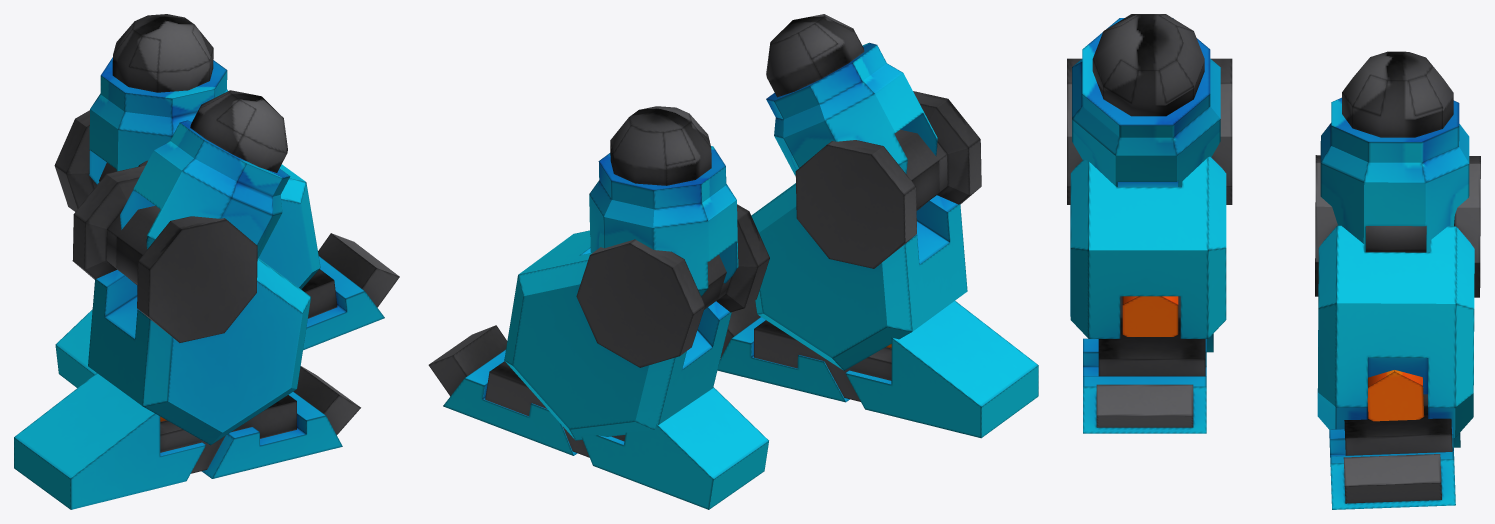
The model's file is Bottom_Idle6.obj.
The picture shows the model from 3 angles, left to right: view 1: azimuth 30°, elevation 25°; view 2: azimuth 150°, elevation 25°; view 3: azimuth 270°, elevation 25°; orthographic projection. The views are drawn at different scales.
Parts seen in each view (by area): view 1: Object013, Object014, Object012, Object009, Object011, Object010; view 2: Object013, Object010, Object014, Object011, Object009, Object012; view 3: Object010, Object013, Object009, Object012, Object014, Object011.
Part boxes in pixels (x1=…): Object013: x1=72, y1=165, x2=310, y2=445; Object014: x1=14, y1=366, x2=360, y2=509; Object012: x1=120, y1=90, x2=290, y2=258; Object009: x1=89, y1=14, x2=227, y2=184; Object011: x1=55, y1=233, x2=399, y2=387; Object010: x1=54, y1=110, x2=320, y2=289; Object013: x1=751, y1=91, x2=981, y2=370; Object010: x1=504, y1=204, x2=769, y2=440; Object014: x1=717, y1=301, x2=1038, y2=438; Object011: x1=428, y1=325, x2=768, y2=509; Object009: x1=589, y1=106, x2=738, y2=296; Object012: x1=766, y1=14, x2=937, y2=175; Object010: x1=1315, y1=155, x2=1480, y2=438; Object013: x1=1067, y1=58, x2=1232, y2=338; Object009: x1=1320, y1=51, x2=1469, y2=252; Object012: x1=1072, y1=14, x2=1220, y2=186; Object014: x1=1083, y1=296, x2=1213, y2=433; Object011: x1=1329, y1=370, x2=1460, y2=509.
Bounding box in the file's own units: 128 × 104 × 94.65.
